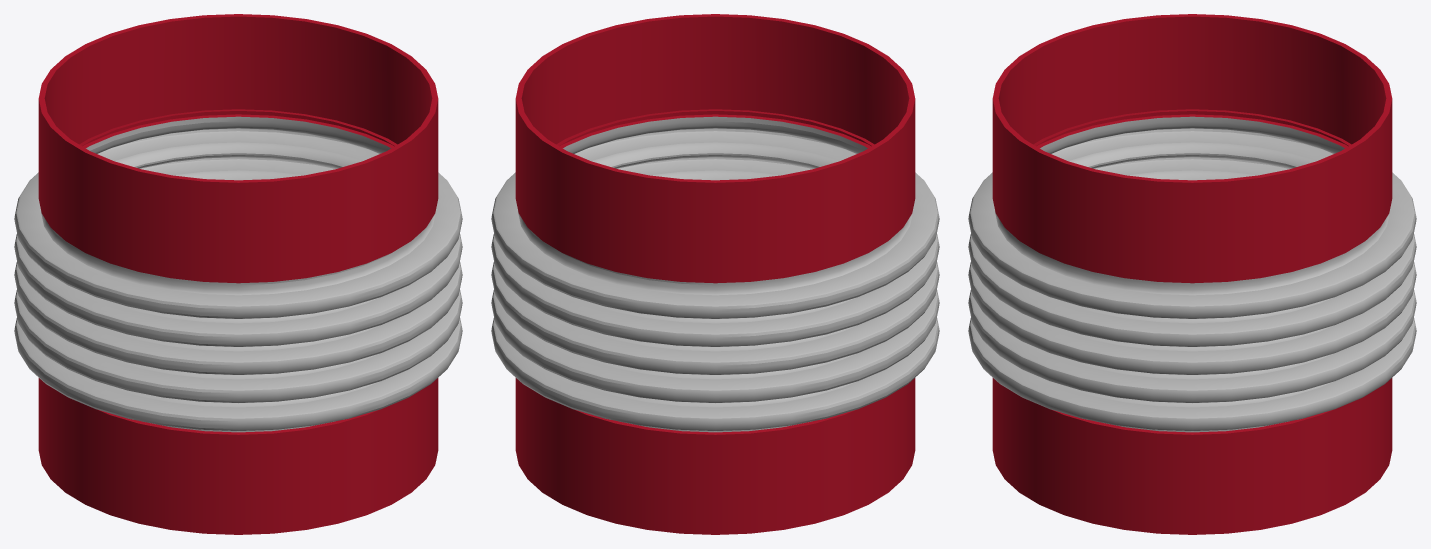
The model's file is single expansion joint low.glb.
3 renders of one model, left to right at view 1: azimuth 30°, elevation 25°; view 2: azimuth 150°, elevation 25°; view 3: azimuth 270°, elevation 25°, orthographic.
Visible parts, largest first — view 1: single expansion joint; view 2: single expansion joint; view 3: single expansion joint.
Boxes of the visible parts, x1,y1,x2,y2 form: single expansion joint: (14,14,462,534); single expansion joint: (491,14,939,534); single expansion joint: (968,14,1416,534).
Size of the model in its own units: 0.1797 by 0.1558 by 0.1797.
